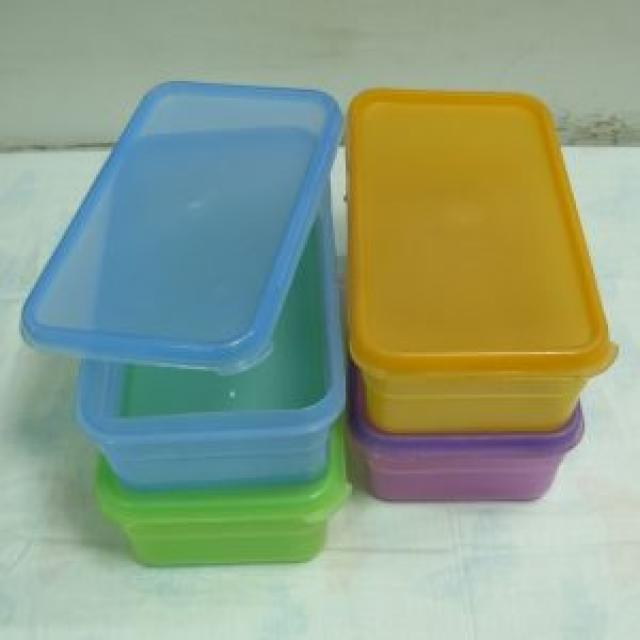plastic_box: (0, 35, 358, 481), (342, 72, 617, 518)
